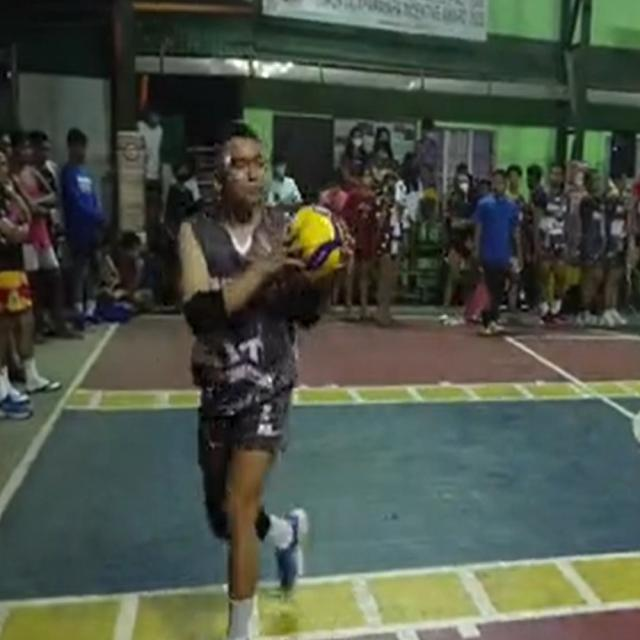volleyball: (288, 207, 346, 281)
